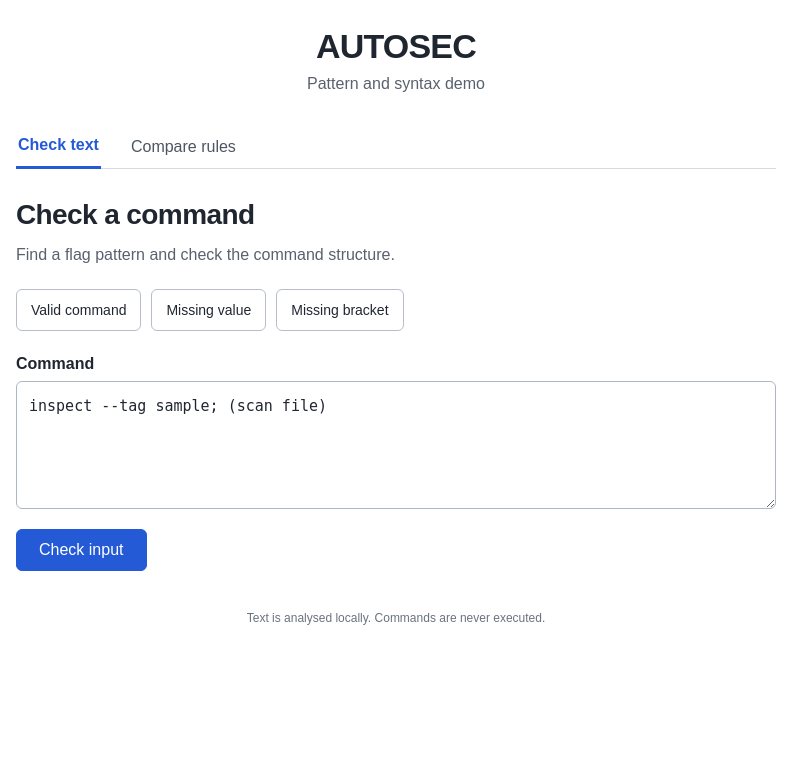
Test: Small demo flows › checks a valid nested command and exposes steps only on request
Click the button "Check input": click(81, 550) [16, 529, 146, 571]
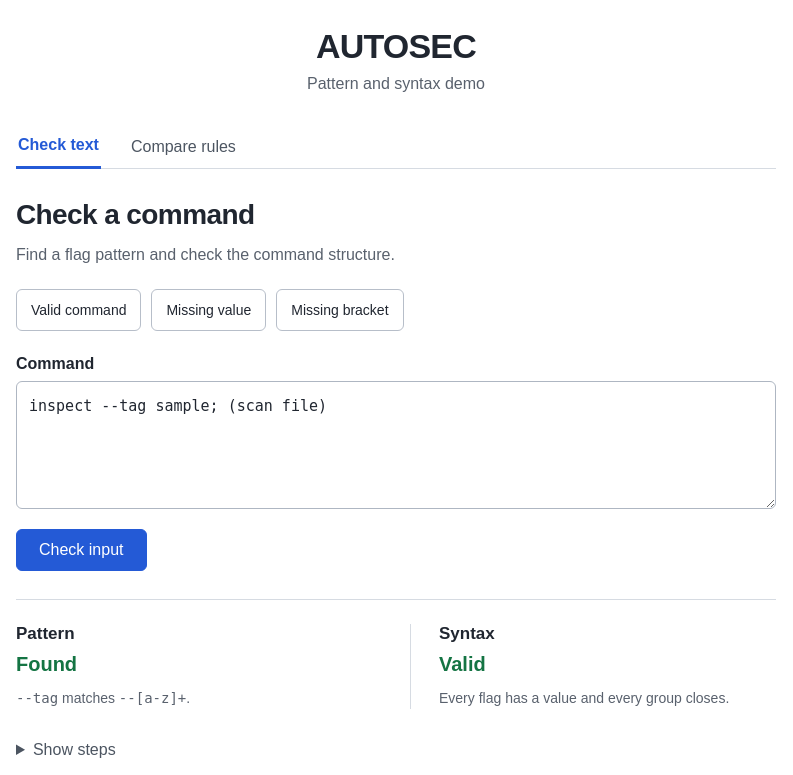
Now the text "Valid" is shown, box [439, 653, 486, 675]
Now the text "Found" is shown, box [16, 653, 77, 675]
Click the heading "Show steps": click(74, 750) [33, 741, 116, 758]
(page scrolled)
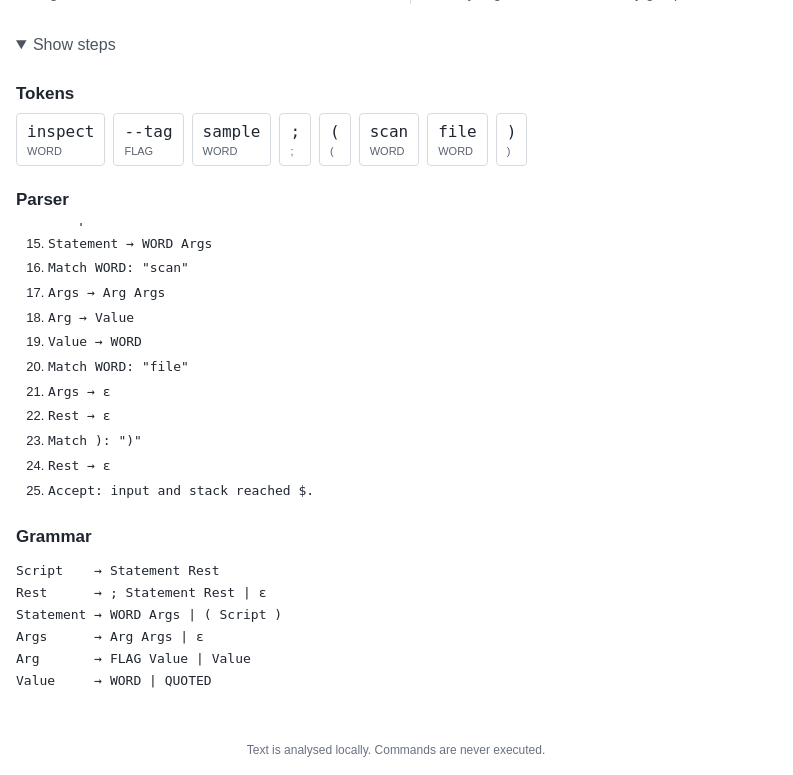
Now the text "Accept: input and stack reached $." is shown, box [48, 482, 314, 498]
